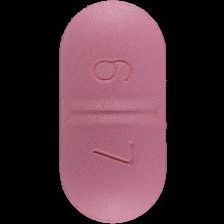66116-477: (0, 0, 224, 224)
